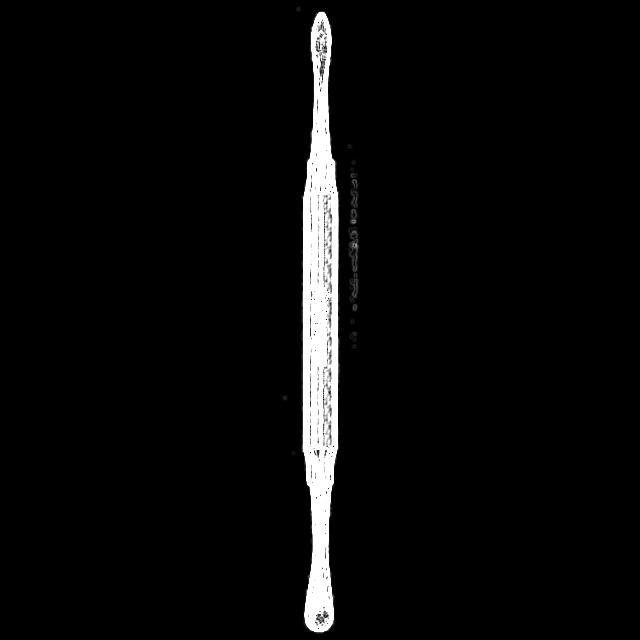elevador: (299, 12, 348, 636)
